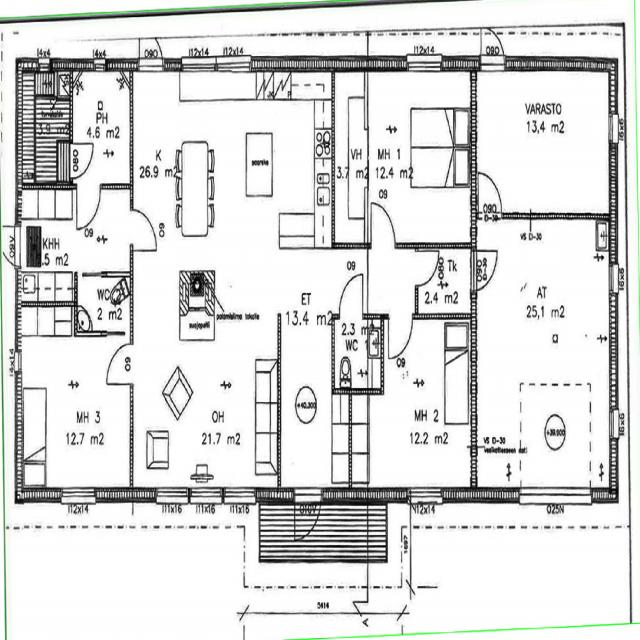door: (294, 487, 320, 546), (481, 18, 504, 71), (140, 18, 162, 71), (371, 202, 395, 248), (471, 250, 499, 289), (478, 174, 502, 219), (389, 313, 412, 358), (77, 183, 100, 228), (107, 344, 133, 383), (340, 275, 362, 319), (0, 226, 22, 266), (130, 210, 154, 245), (415, 251, 438, 285), (70, 144, 92, 177)
